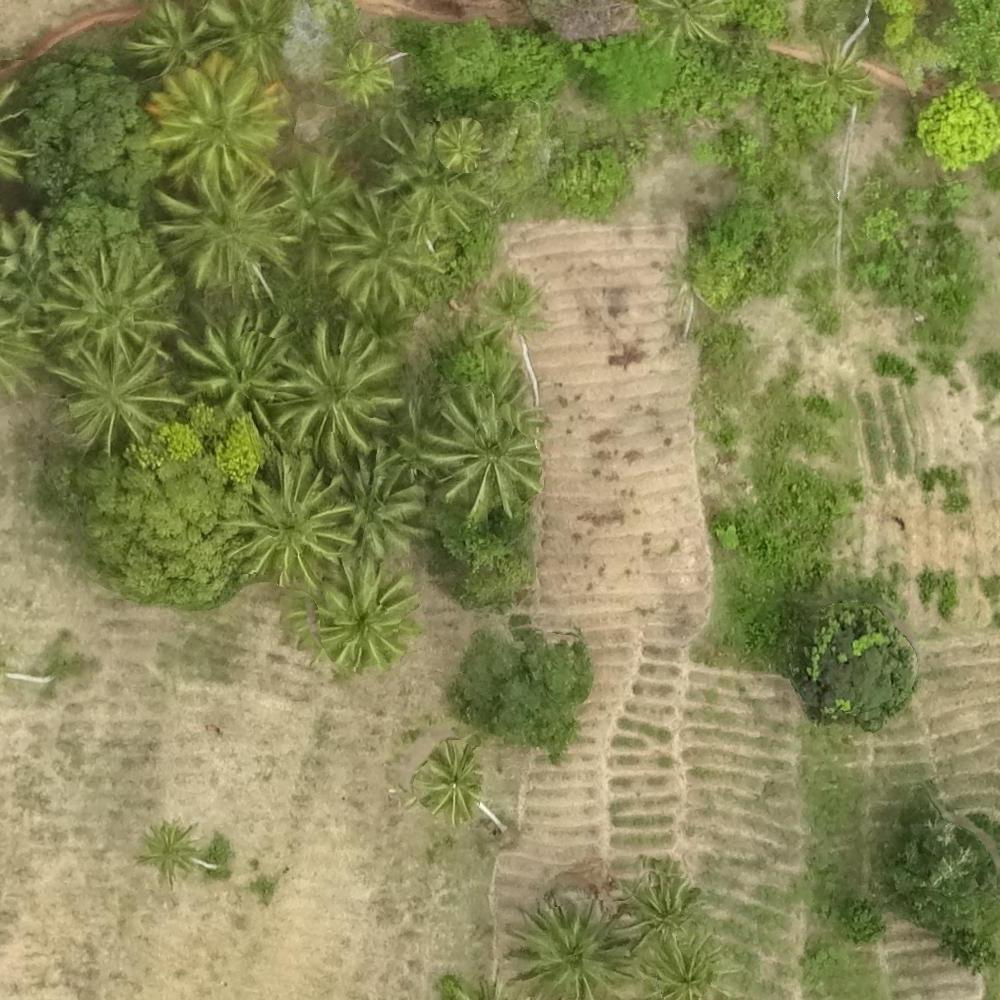Palm: (278, 318, 396, 455), (418, 390, 540, 512), (154, 178, 291, 286), (52, 347, 176, 458), (158, 62, 279, 174), (230, 466, 348, 580), (53, 250, 180, 354), (505, 898, 631, 994), (332, 444, 429, 555), (328, 198, 428, 304), (316, 562, 414, 665), (193, 315, 290, 414), (209, 1, 294, 73), (624, 873, 703, 950), (121, 5, 204, 71), (636, 935, 720, 1000), (422, 744, 487, 818), (327, 42, 396, 99), (138, 824, 203, 880)
